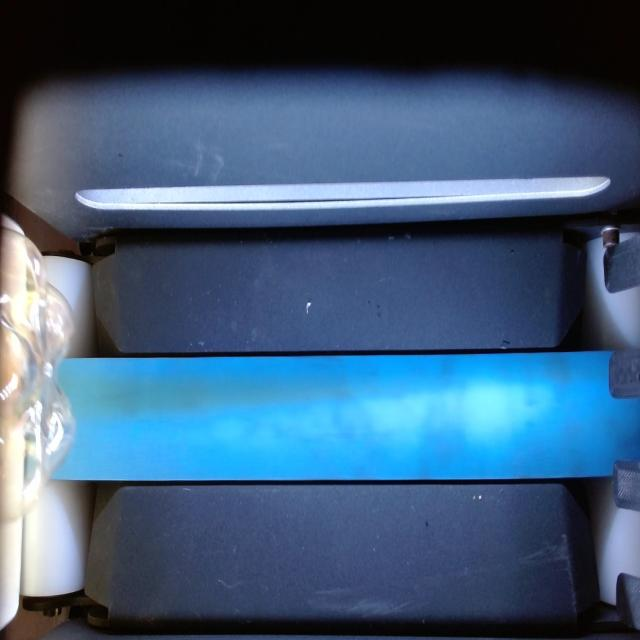bottom: (0, 218, 75, 519)
